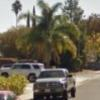cars: (33, 67, 77, 100)
